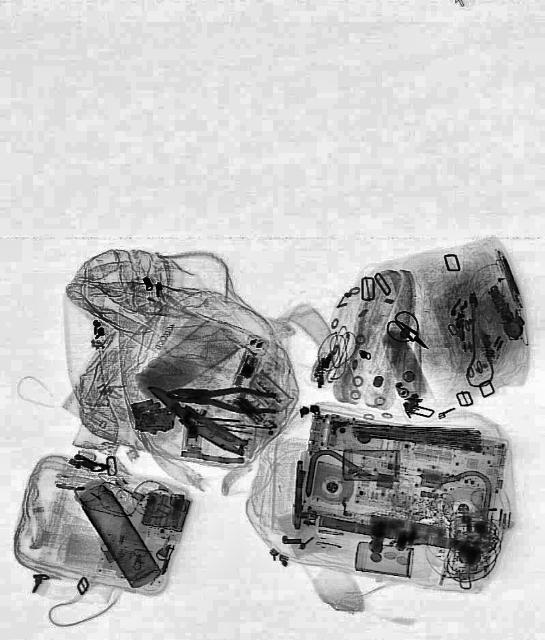Pliers: (166, 380, 276, 414)
